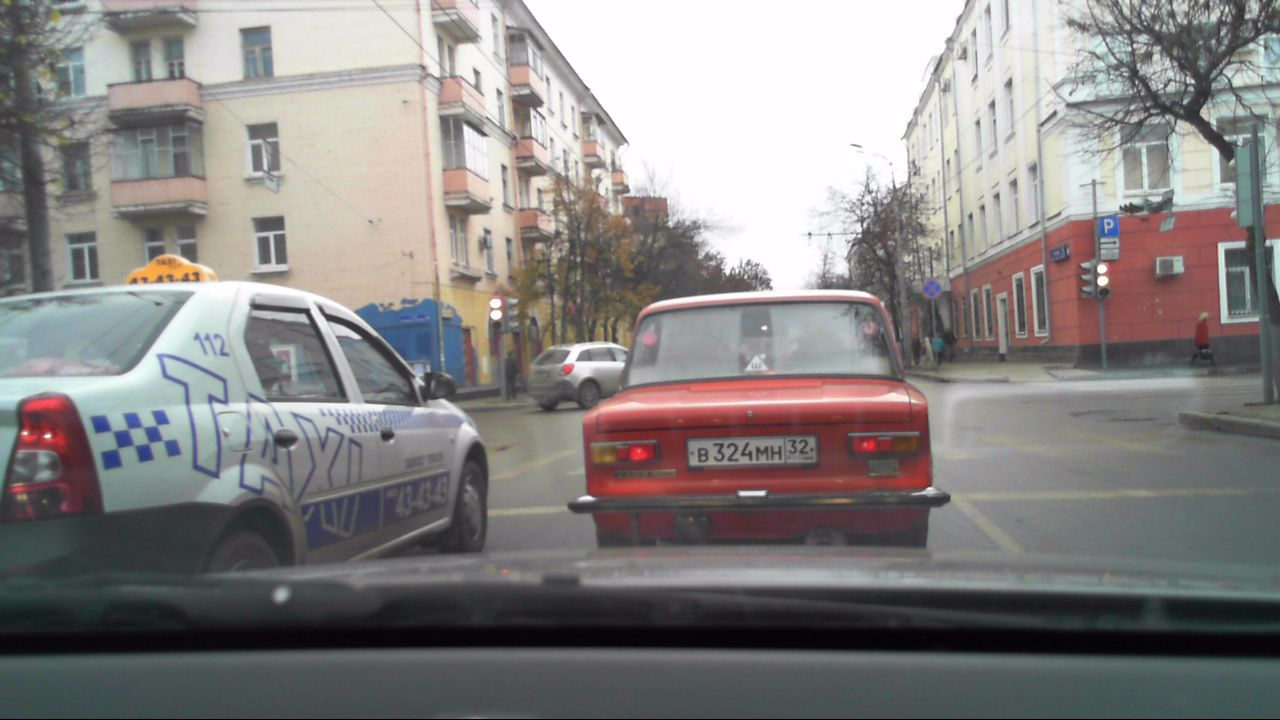No Parking: (920, 276, 944, 299)
